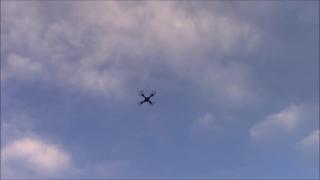UAV: (137, 91, 156, 106)
